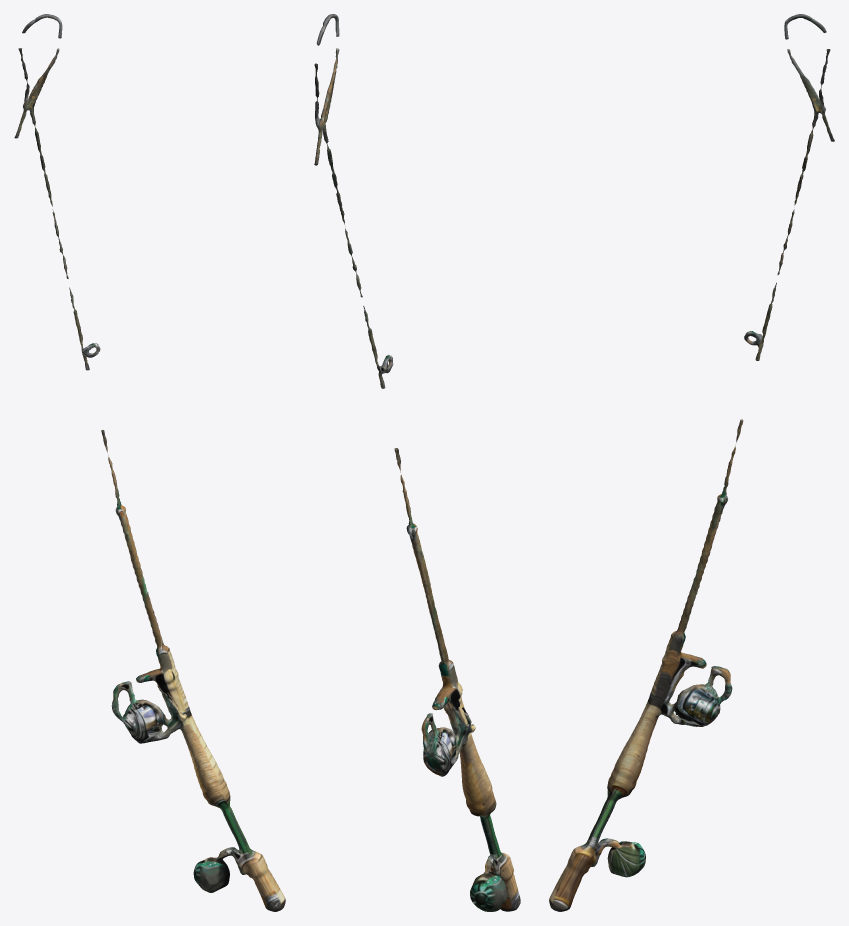
File: design_a_fishing_pole_1104035942_texture.fbx
3 renders of one model, left to right at view 1: azimuth 90°, elevation 25°; view 2: azimuth 150°, elevation 25°; view 3: azimuth 270°, elevation 25°, orthographic. The views are drawn at different scales.
Parts seen in each view (by area): view 1: Mesh1.0; view 2: Mesh1.0; view 3: Mesh1.0.
Boxes of the visible parts, left/top/right/bottom form: Mesh1.0: left=14, top=14, right=285, bottom=911; Mesh1.0: left=314, top=14, right=520, bottom=911; Mesh1.0: left=549, top=14, right=834, bottom=911.
Size of the model in its own units: 19.04 by 200 by 56.26.
Materials: 1 (1 with a texture image).
